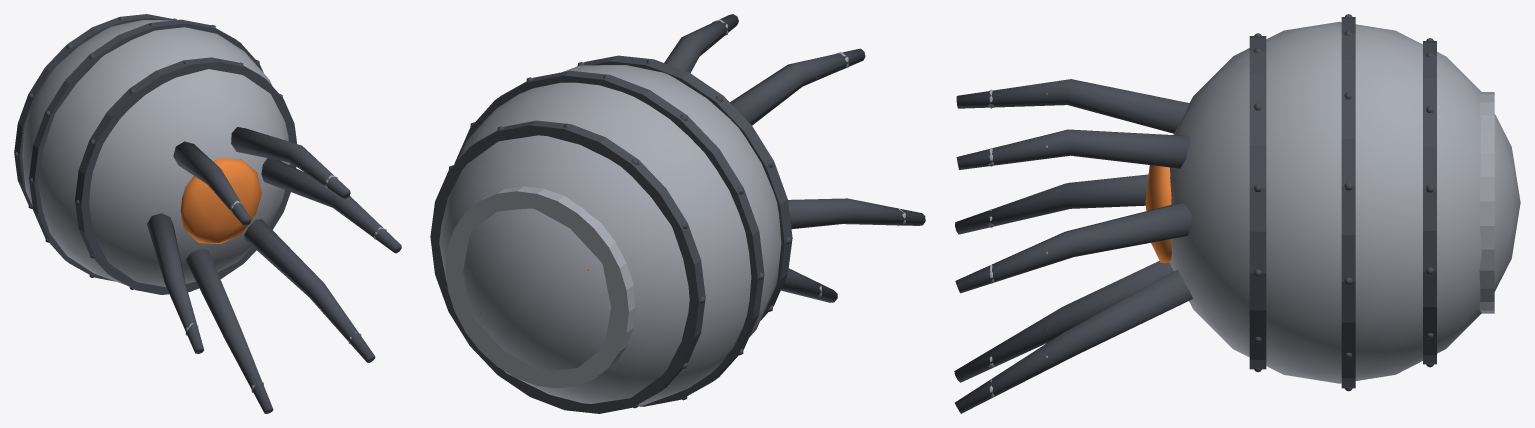
Rendered from retinazer.glb.
3 renders of one model, left to right at view 1: azimuth 30°, elevation 25°; view 2: azimuth 150°, elevation 25°; view 3: azimuth 270°, elevation 25°, orthographic. The views are drawn at different scales.
Parts seen in each view (by area): view 1: twin_lens_ray; view 2: twin_lens_ray; view 3: twin_lens_ray.
Boxes of the visible parts, x1,y1,x2,y2 form: twin_lens_ray: [14, 14, 401, 413]; twin_lens_ray: [430, 14, 925, 413]; twin_lens_ray: [954, 14, 1520, 413].
Bounding box in the file's own units: 2.72 × 2.94 × 4.07.
